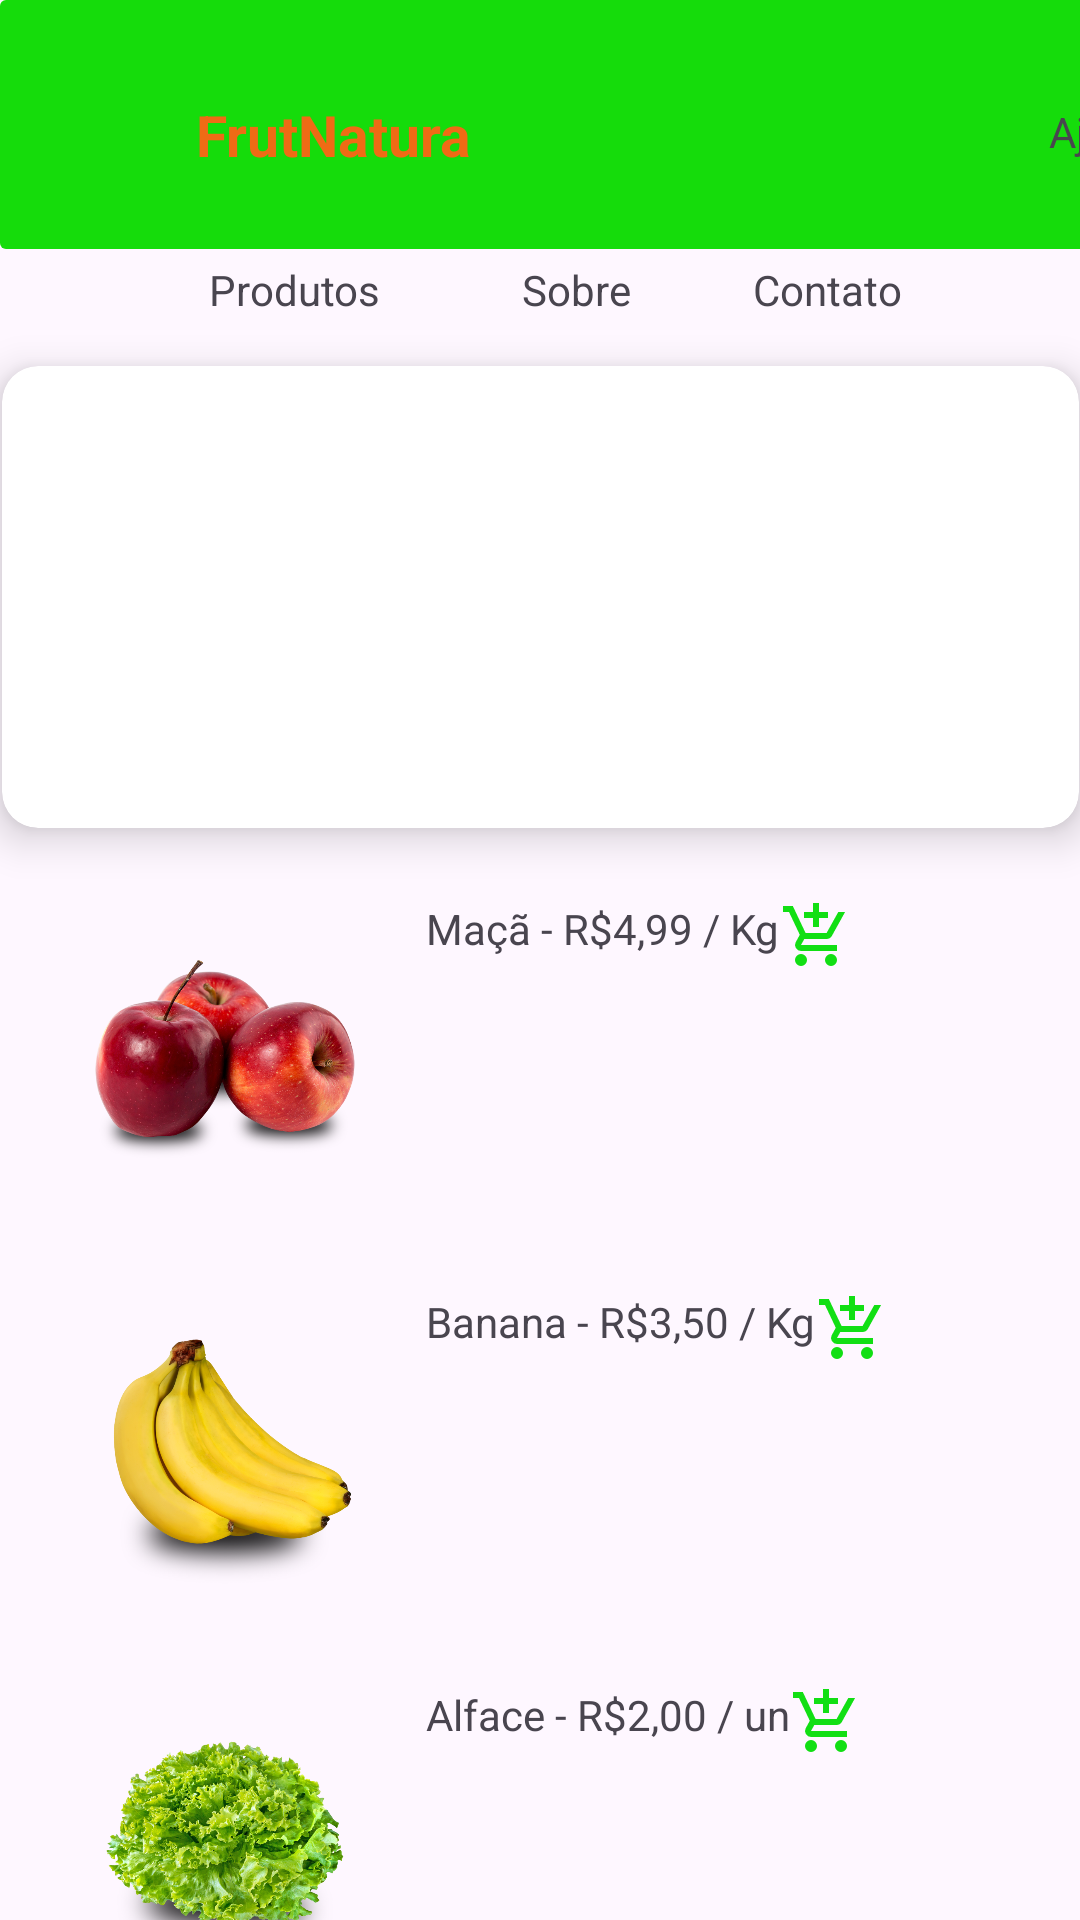

Screen size 1080 x 1920. Icon name, then its box in pixels as (x1, y1, x2, y2):
maca: (95, 960, 355, 1150)
